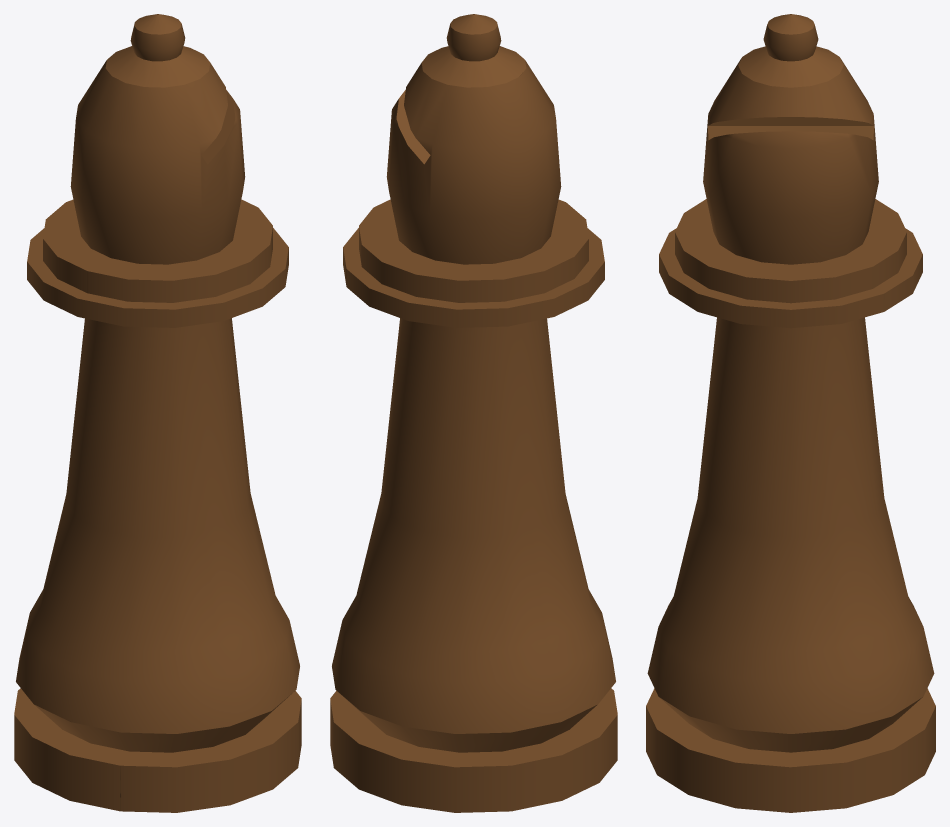
Rendered from Bishop.fbx.
3 renders of one model, left to right at view 1: azimuth 30°, elevation 25°; view 2: azimuth 150°, elevation 25°; view 3: azimuth 270°, elevation 25°, orthographic.
Visible parts, largest first — view 1: Plane.004; view 2: Plane.004; view 3: Plane.004.
Part boxes in pixels (<box>): Plane.004: <box>14,14,301,812</box>; Plane.004: <box>330,14,617,812</box>; Plane.004: <box>646,14,935,812</box>.
Size of the model in its own units: 32.92 by 92.35 by 32.92.
